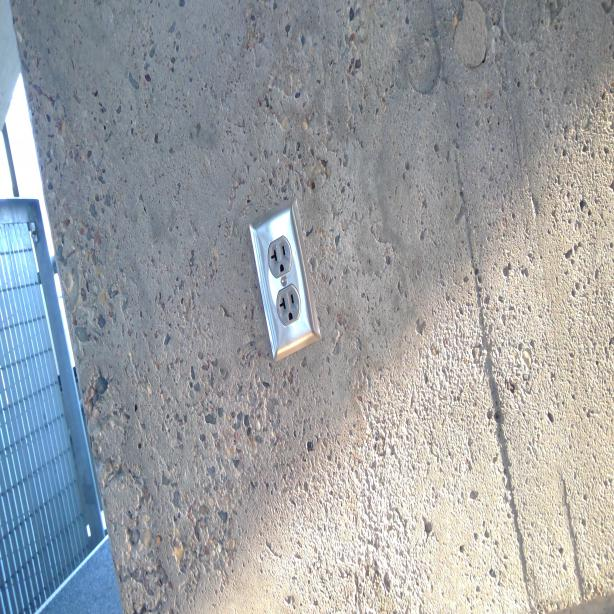typeb: (265, 234, 292, 278), (274, 286, 302, 328)
